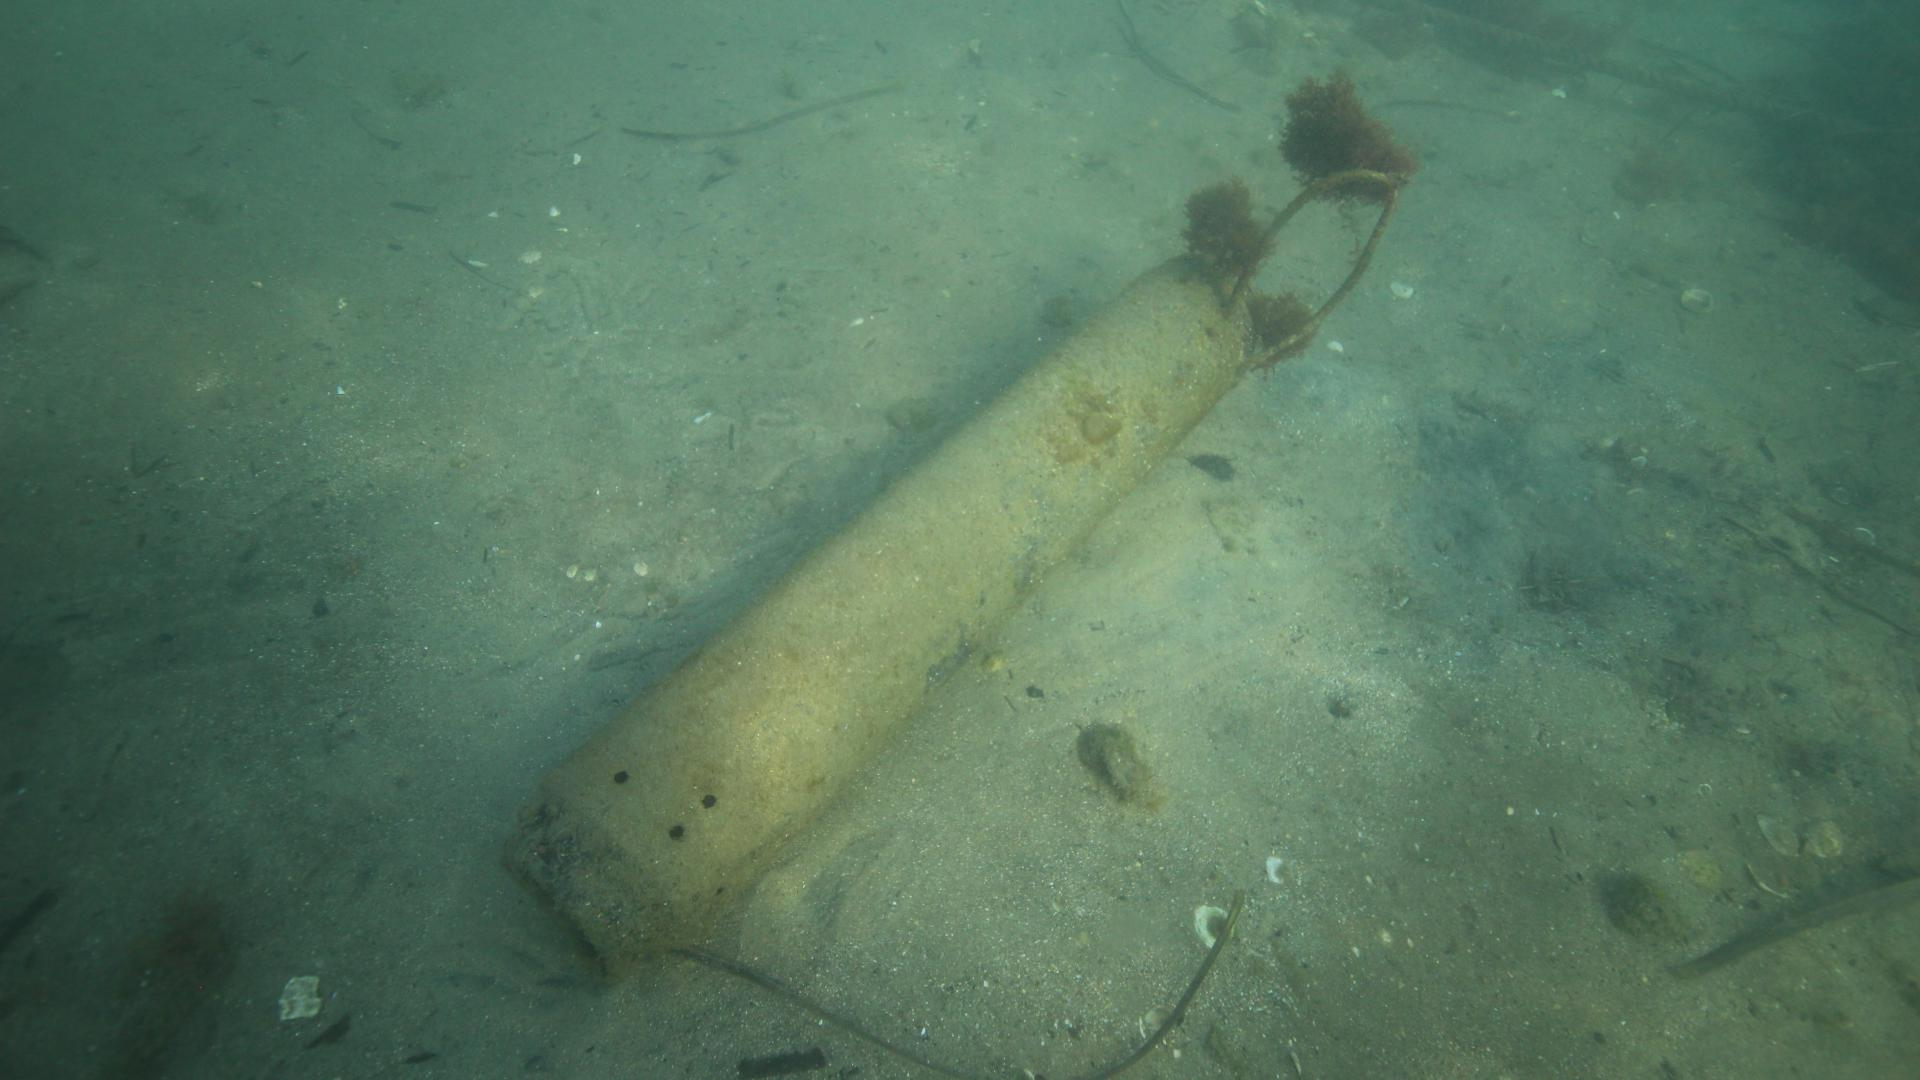eel fish trap: (502, 252, 1265, 980)
rope: (1407, 0, 1920, 146), (1225, 167, 1398, 371)
